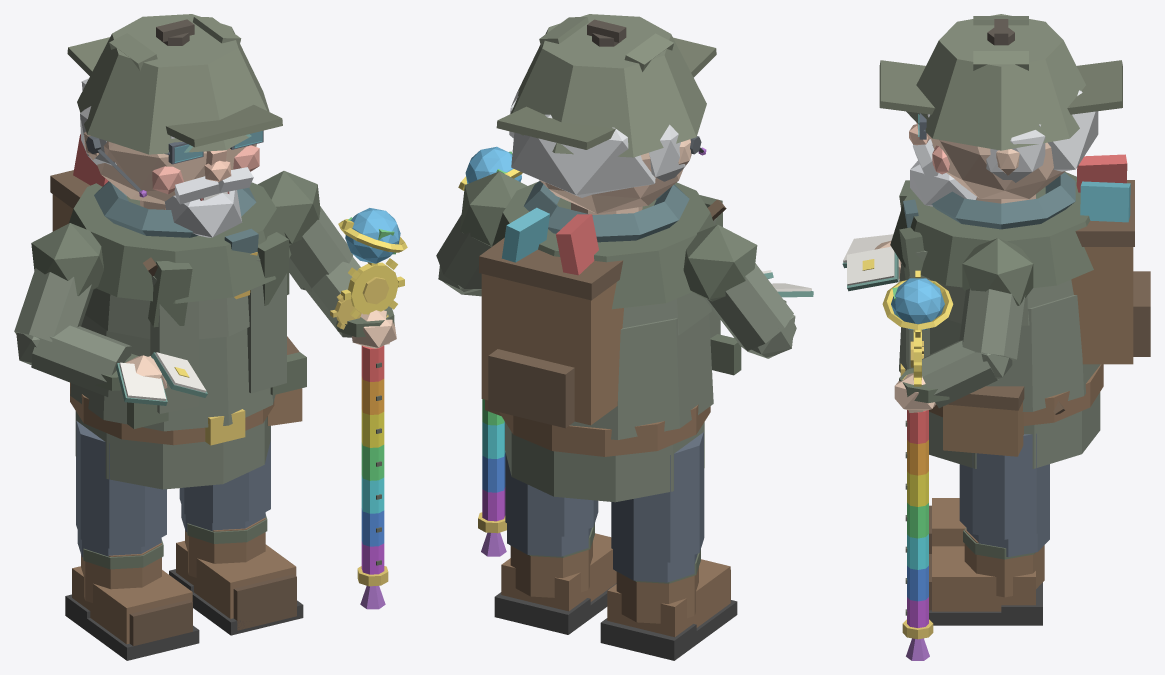
Rendered from adventure.glb.
The picture shows the model from 3 angles, left to right: view 1: azimuth 30°, elevation 25°; view 2: azimuth 150°, elevation 25°; view 3: azimuth 270°, elevation 25°; orthographic projection. The views are drawn at different scales.
Visible parts, largest first — view 1: Adventure; view 2: Adventure; view 3: Adventure.
Boxes of the visible parts, box(x1,y1,x2,y2) form: Adventure: box(14, 14, 407, 660); Adventure: box(436, 14, 813, 660); Adventure: box(842, 14, 1150, 660).
Bounding box in the file's own units: 1.12 × 1.77 × 0.8874.
